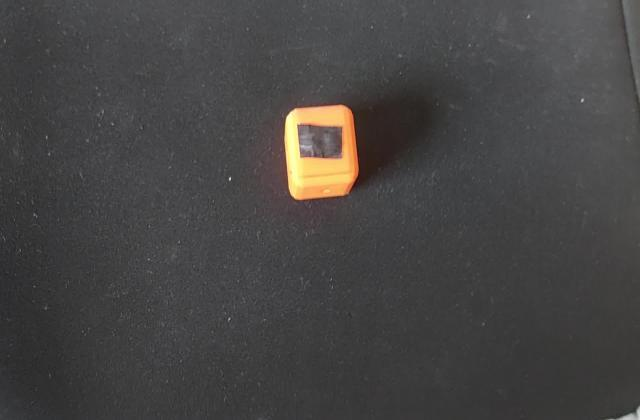black: (292, 120, 348, 163)
sticker: (278, 101, 362, 205)
